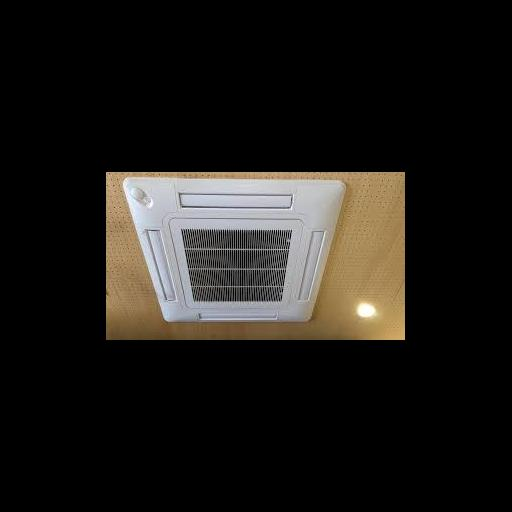4-way-ac: (124, 176, 347, 322)
